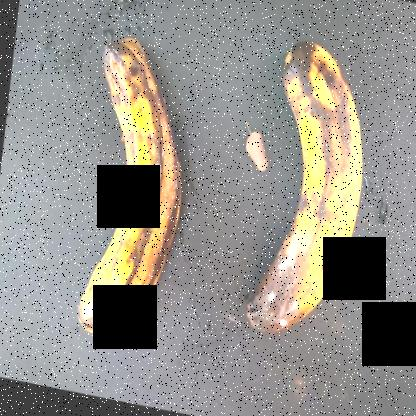rotten: (231, 24, 378, 336), (68, 12, 195, 335)
